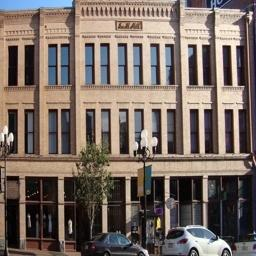building: (2, 0, 256, 256)
